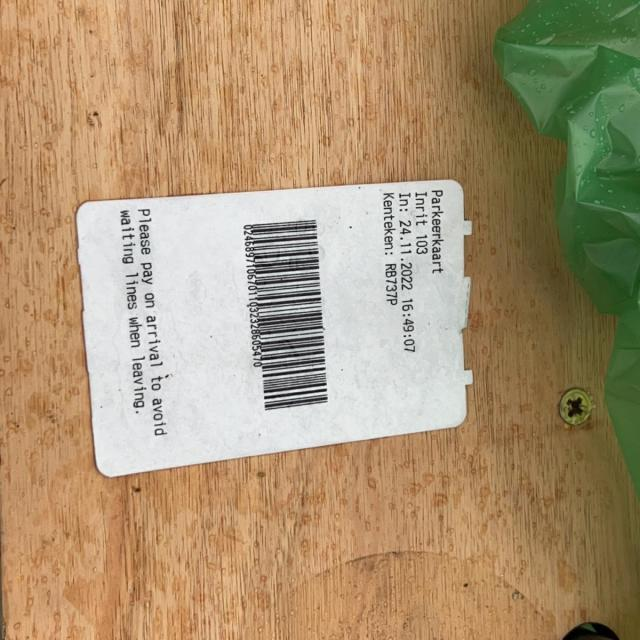Paper: (70, 174, 478, 482)
